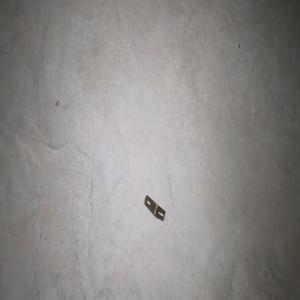MetalPart: (143, 194, 166, 221)
